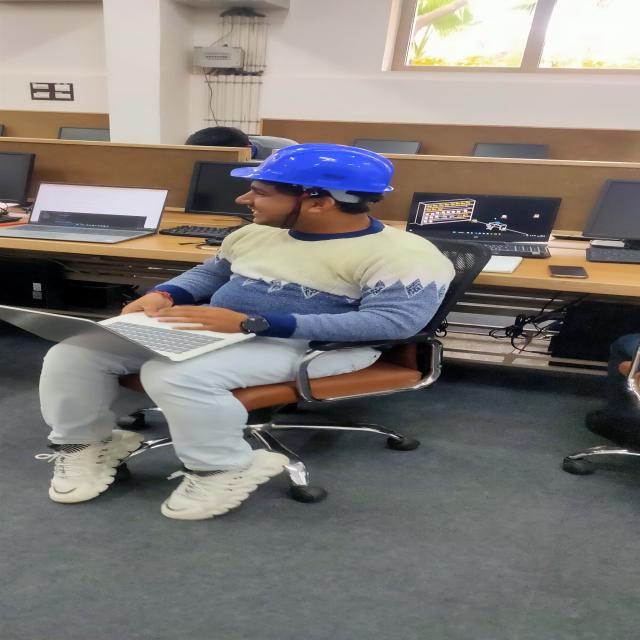no jacket: (39, 143, 452, 520)
